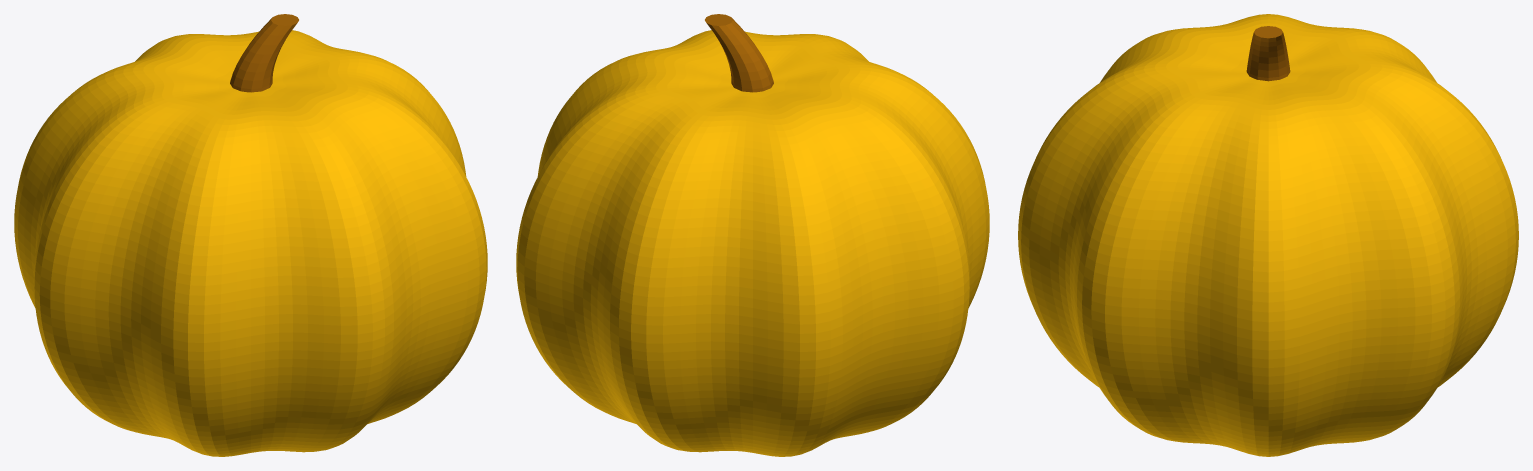
File: classic.glb
3 views of the same model, side by side, from view 1: azimuth 30°, elevation 25°; view 2: azimuth 150°, elevation 25°; view 3: azimuth 270°, elevation 25° (orthographic). The views are drawn at different scales.
Visible parts, largest first — view 1: body, lid, stem; view 2: body, lid, stem; view 3: body, lid, stem.
Part boxes in pixels (x1,y1,x2,y2): body: (14, 60, 487, 456); lid: (73, 30, 428, 187); stem: (230, 14, 298, 92); body: (516, 60, 989, 456); lid: (575, 30, 930, 187); stem: (705, 14, 773, 92); body: (1018, 50, 1518, 456); lid: (1080, 14, 1456, 181); stem: (1246, 26, 1290, 81).
Bounding box in the file's own units: 2.22 × 1.91 × 2.22.
